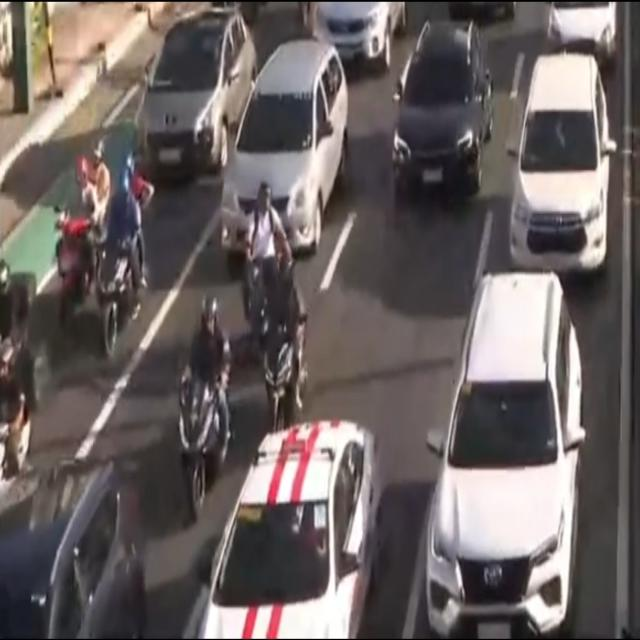Motorcycle: (172, 295, 232, 504), (91, 159, 152, 357), (45, 138, 102, 308), (0, 255, 42, 464), (262, 259, 306, 433), (238, 188, 282, 332)
SUV: (425, 274, 587, 636), (218, 41, 346, 258), (506, 49, 608, 267)
Sedan: (201, 428, 387, 640), (0, 452, 144, 640), (132, 17, 258, 174), (392, 18, 490, 191)
